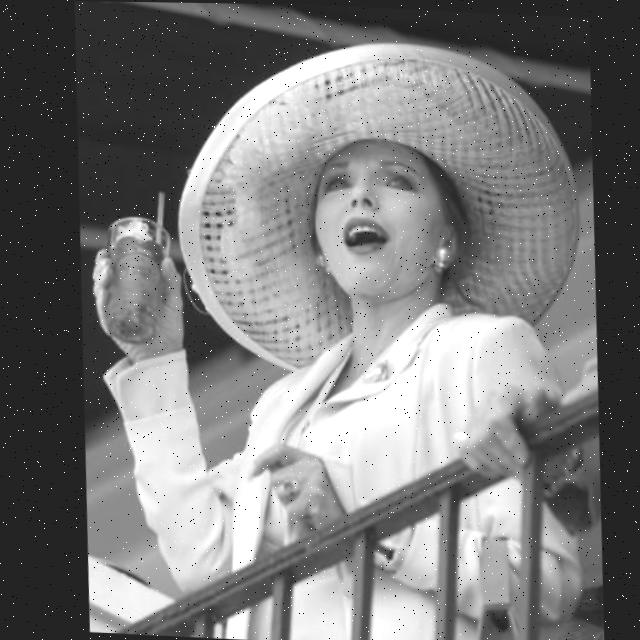face: (289, 121, 472, 331)
